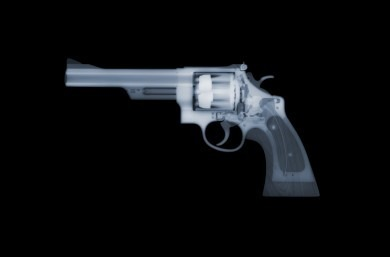gun: (60, 53, 321, 201)
